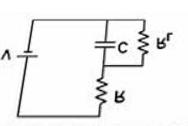resistor: (132, 25, 150, 57), (92, 74, 110, 105)
